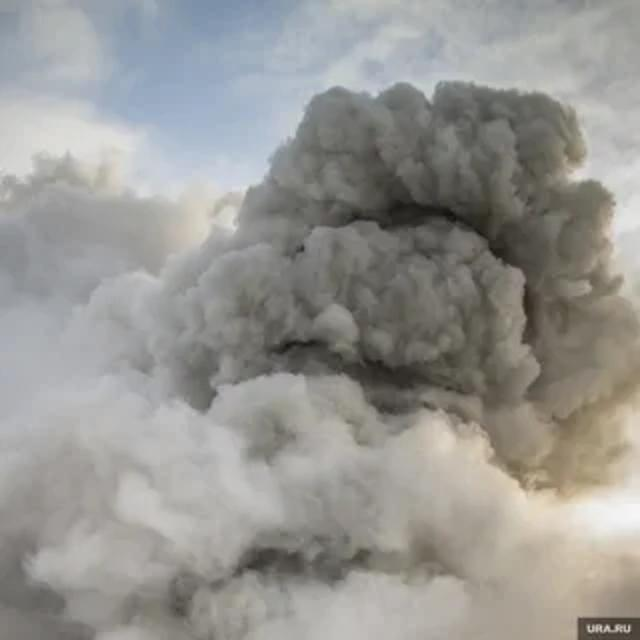smoke: (2, 80, 640, 640)
